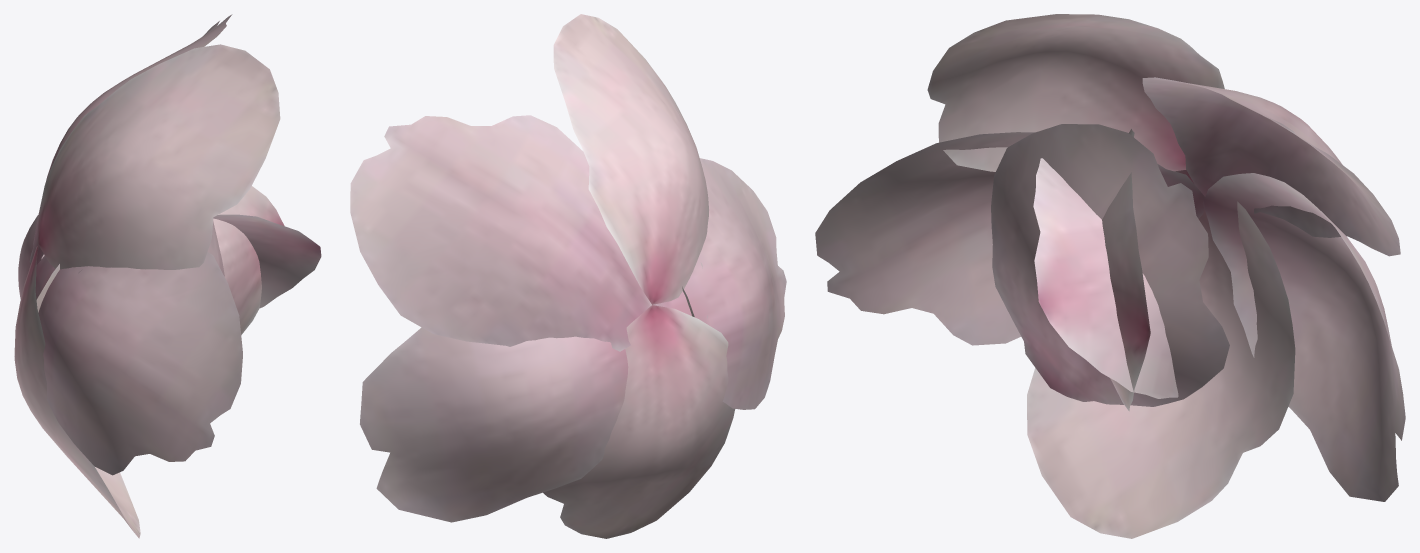
Rendered from petals.glb.
3 views of the same model, side by side, from view 1: azimuth 30°, elevation 25°; view 2: azimuth 150°, elevation 25°; view 3: azimuth 270°, elevation 25° (orthographic). The views are drawn at different scales.
Parts seen in each view (by area): view 1: 03.001_petal03_0, 03.001_petal01_0, 01.001_petal03_0, 04.001_petal02_0, 03.001_petal02_0; view 2: 03.001_petal01_0, 03.001_petal03_0, 03.001_petal02_0; view 3: 03.001_petal03_0, 03.001_petal01_0, 02.001_petal01_0, 03.001_petal02_0, 04.001_petal02_0, 01.001_petal03_0.
Part boxes in pixels (box(x1,y1,x2,y2)): 03.001_petal03_0: box(14, 44, 280, 538); 03.001_petal01_0: box(29, 14, 242, 475); 01.001_petal03_0: box(36, 186, 284, 334); 04.001_petal02_0: box(47, 214, 321, 308); 03.001_petal02_0: box(18, 215, 44, 298); 03.001_petal01_0: box(350, 115, 786, 409); 03.001_petal03_0: box(543, 14, 735, 538); 03.001_petal02_0: box(360, 327, 628, 522); 03.001_petal03_0: box(927, 14, 1295, 538); 03.001_petal01_0: box(815, 77, 1400, 345); 02.001_petal01_0: box(991, 124, 1229, 406); 03.001_petal02_0: box(1202, 173, 1405, 501); 04.001_petal02_0: box(1033, 158, 1178, 398); 01.001_petal03_0: box(1102, 129, 1150, 411).
Size of the model in its own units: 8.92 by 14.62 by 13.73.
3 materials, 3 textured.
